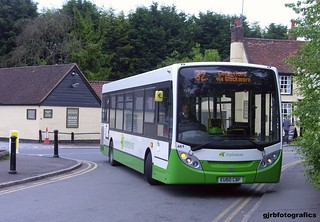bus: (100, 61, 282, 185)
